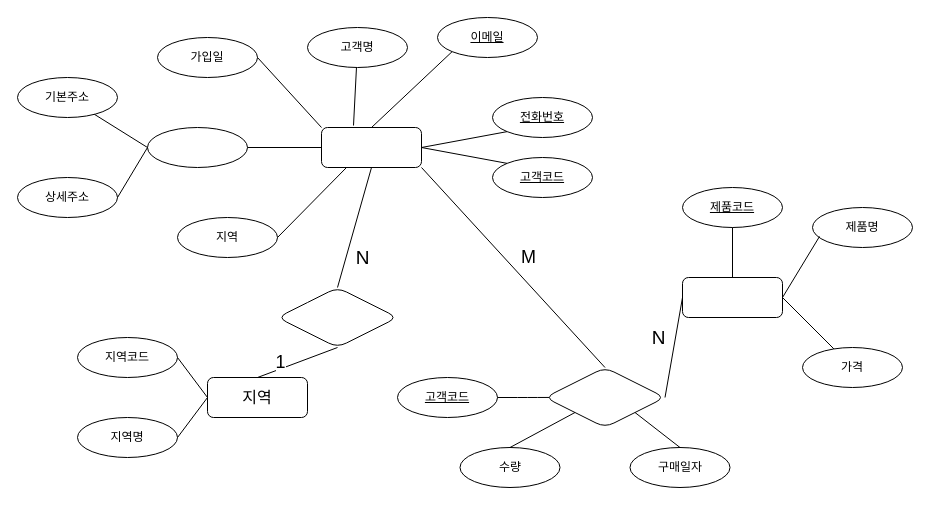
Some shapes in this 930 by 505 pixel diagram are drawn without their labels. The centre of each missing label's shape, as x and y in pixels:
"고객" belongs at point (371, 147).
"관리" belongs at point (337, 317).
"구매" belongs at point (604, 397).
"상품" belongs at point (732, 297).
"주소" belongs at point (197, 147).
